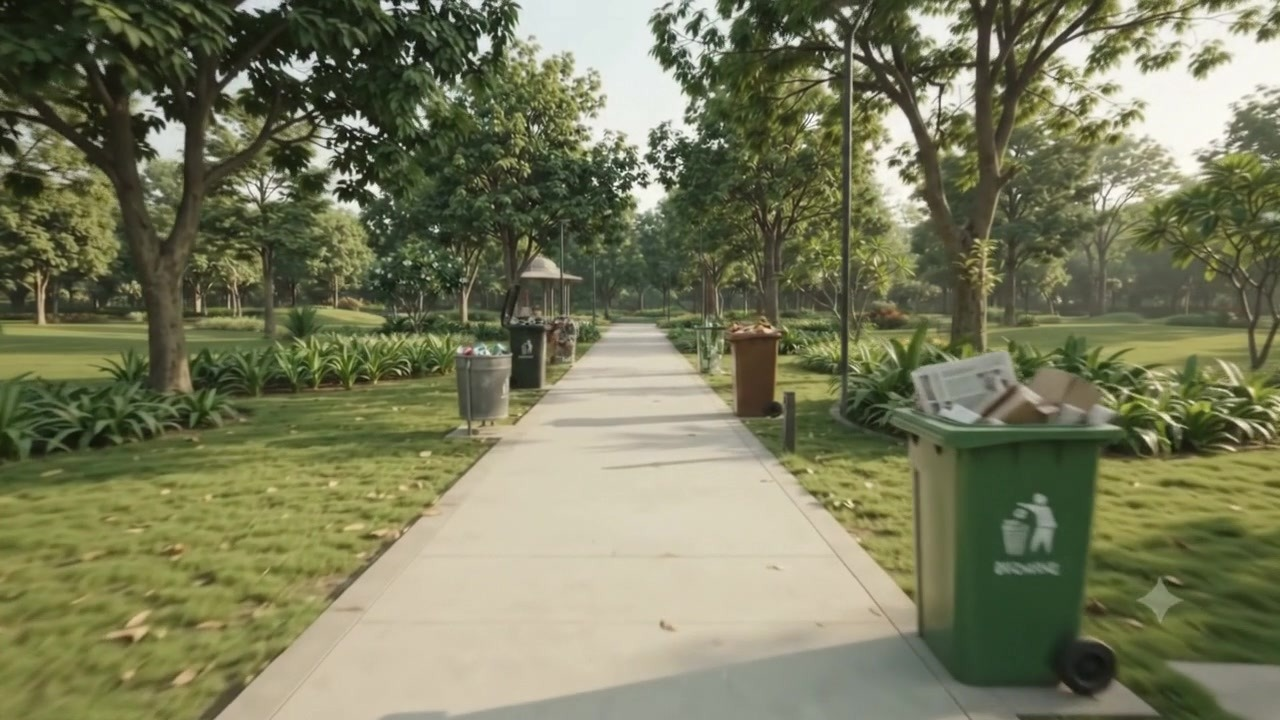paper_cardboard: (883, 346, 1101, 684)
